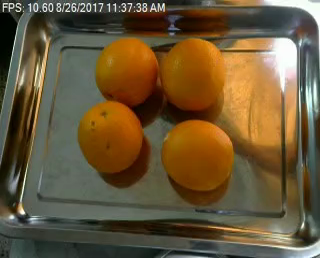Orange: (163, 119, 233, 190), (161, 38, 225, 111), (78, 102, 143, 173), (95, 38, 159, 107)
